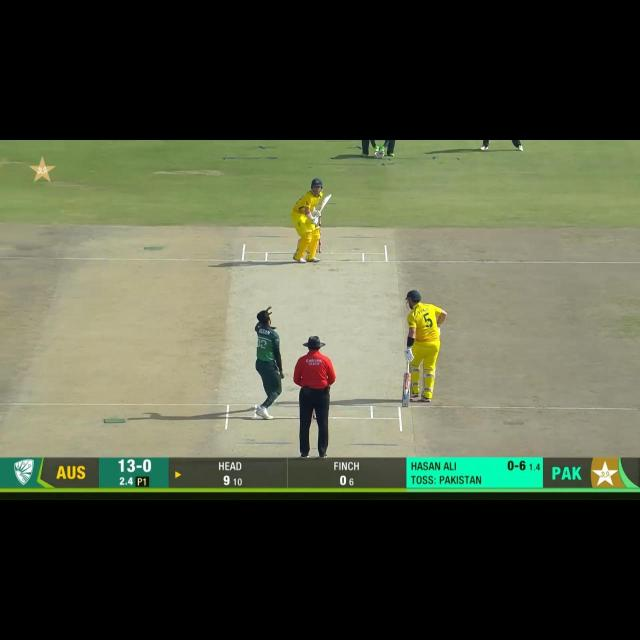bat: (402, 374, 411, 408), (318, 194, 331, 215)
toe: (401, 401, 412, 408), (325, 194, 331, 201)
